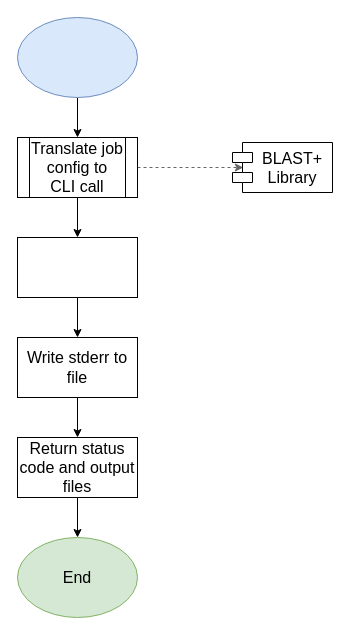
The diagram is 350 pixels wide and 635 high, and some of its shapes have lost their labels. Here are the shapes that lost their labels. From the top down, the centre of each, then its label:
At (77,57): "Start".
At (77,267): "Execute BLAST+ CLI call".
